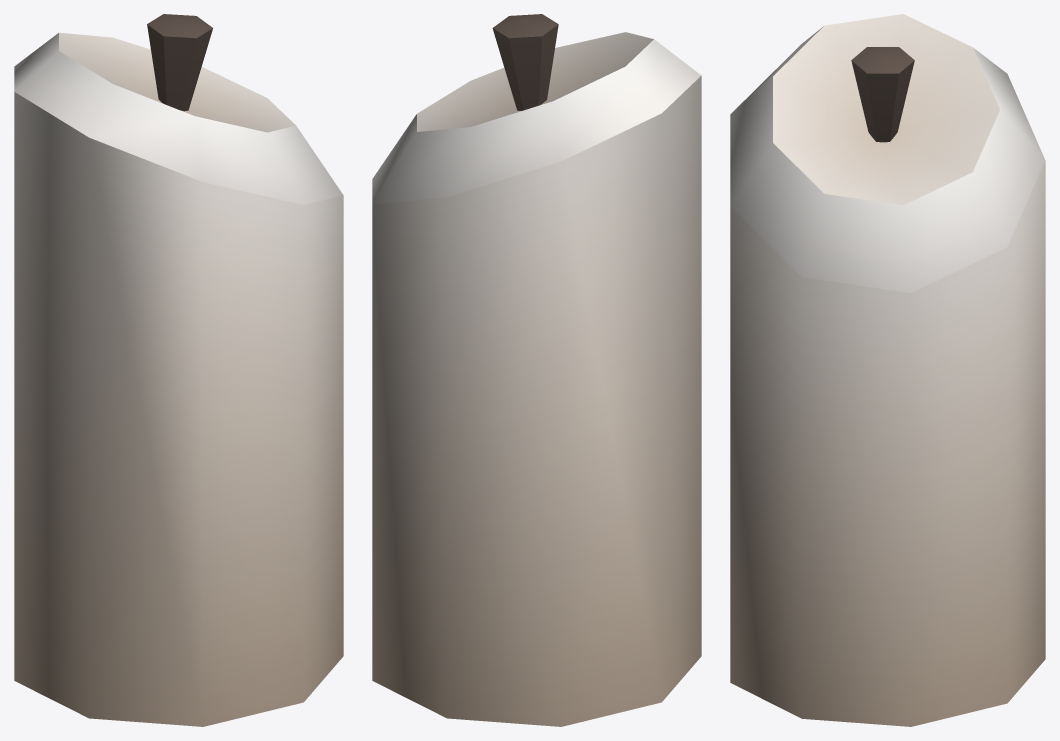
File: candle_melted.obj
The picture shows the model from 3 angles, left to right: view 1: azimuth 30°, elevation 25°; view 2: azimuth 150°, elevation 25°; view 3: azimuth 270°, elevation 25°; orthographic projection. The views are drawn at different scales.
Visible parts, largest first — view 1: candle_melted; view 2: candle_melted; view 3: candle_melted.
Boxes of the visible parts, bbox=[...] form: candle_melted: bbox=[14, 14, 343, 726]; candle_melted: bbox=[372, 14, 701, 726]; candle_melted: bbox=[730, 14, 1045, 726].
Bounding box in the file's own units: 0.3344 × 0.7015 × 0.3293.
1 material, 1 textured.
